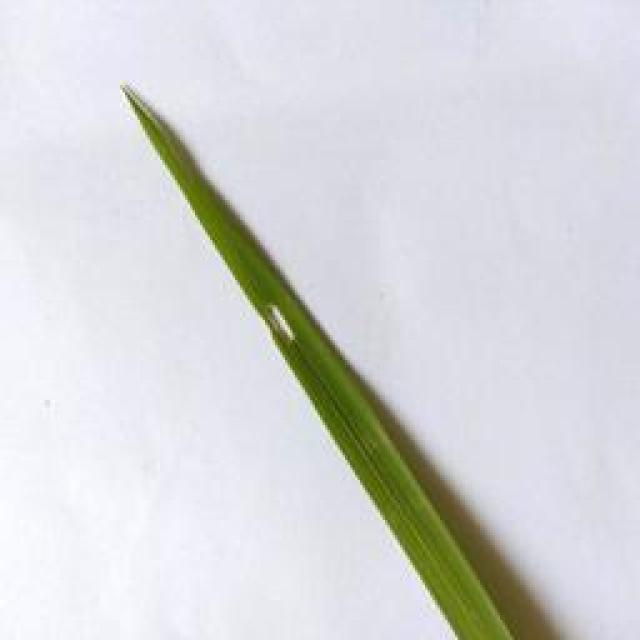Rice_Blast: (267, 304, 298, 344)
